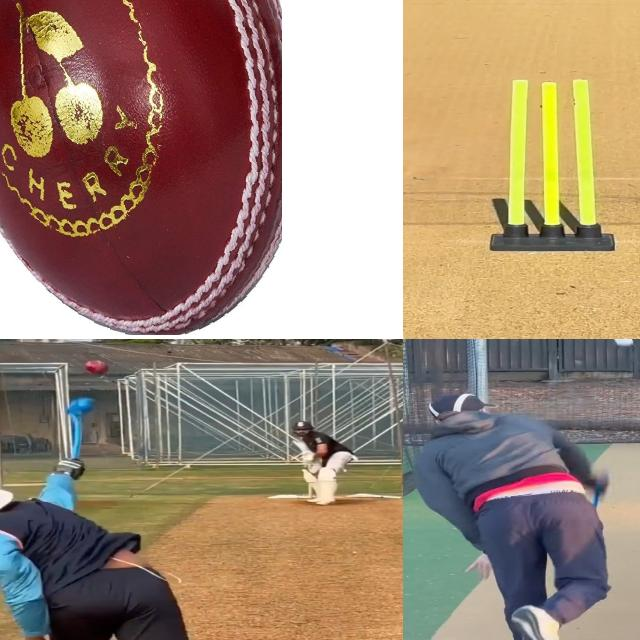Cricket ball: (0, 0, 281, 335), (83, 360, 109, 376), (608, 339, 638, 349)
Stumps: (485, 78, 617, 254)
